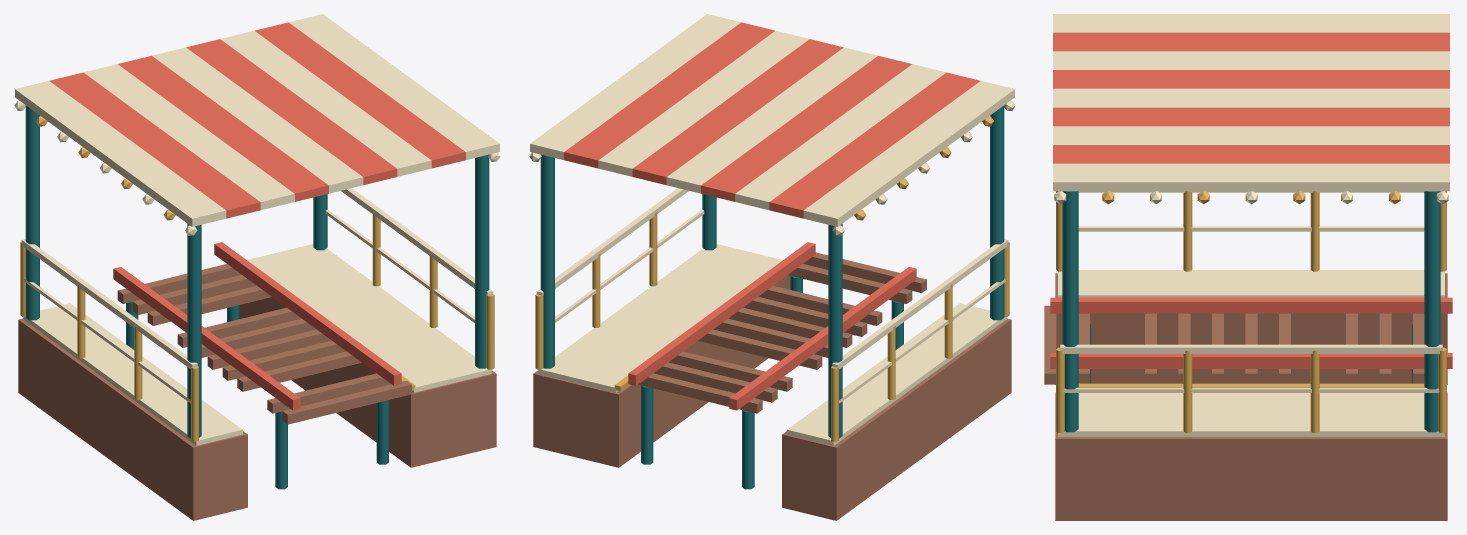
The model's file is track_station.glb.
The picture shows the model from 3 angles, left to right: view 1: azimuth 30°, elevation 25°; view 2: azimuth 150°, elevation 25°; view 3: azimuth 270°, elevation 25°; orthographic projection. The views are drawn at different scales.
Parts seen in each view (by area): view 1: track_station; view 2: track_station; view 3: track_station.
Part boxes in pixels (x1=…): track_station: x1=14, y1=14, x2=500, y2=520; track_station: x1=529, y1=14, x2=1015, y2=520; track_station: x1=1044, y1=14, x2=1452, y2=520.
Size of the model in its own units: 4.02 by 3.73 by 4.06.
